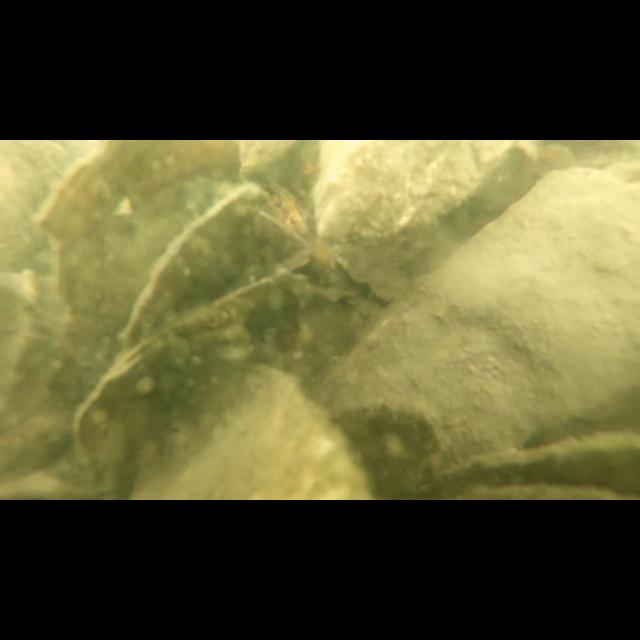Oyster-Closed: (322, 166, 640, 500), (41, 140, 241, 368), (127, 362, 369, 500), (312, 140, 522, 248)
Oyster-Open: (124, 180, 306, 340)
